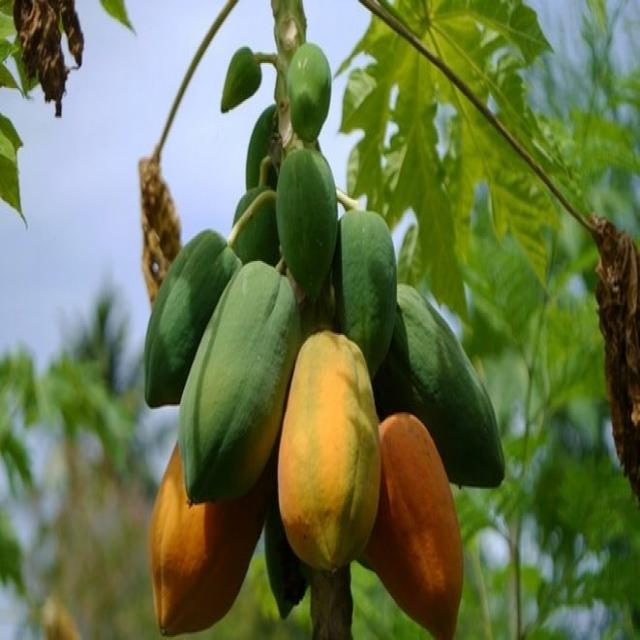Pepaya rippen: (273, 328, 382, 586), (381, 426, 463, 635), (152, 508, 258, 629)
Pepaya unrippen: (181, 263, 293, 492), (391, 297, 508, 475), (138, 219, 234, 407), (277, 150, 341, 304), (282, 46, 332, 142)
